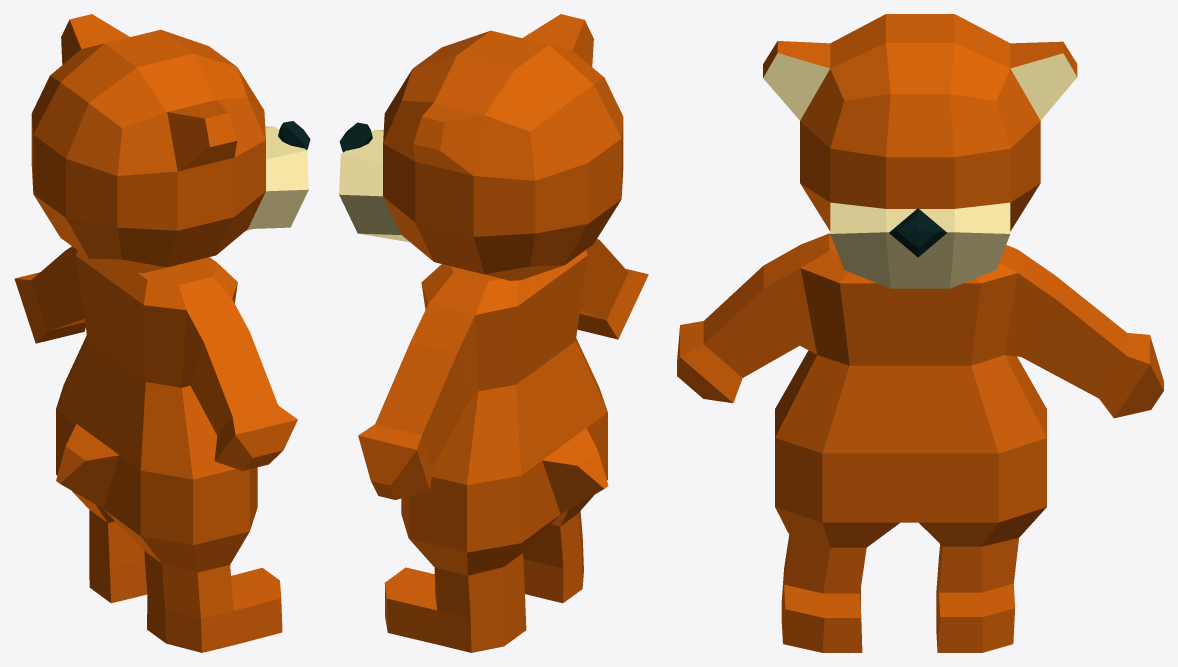
File: teddybear-orange.fbx
3 renders of one model, left to right at view 1: azimuth 30°, elevation 25°; view 2: azimuth 150°, elevation 25°; view 3: azimuth 270°, elevation 25°, orthographic. The views are drawn at different scales.
Parts seen in each view (by area): view 1: teddy.003; view 2: teddy.003; view 3: teddy.003.
Part boxes in pixels (<box>): teddy.003: <box>14,14,310,652</box>; teddy.003: <box>339,14,648,652</box>; teddy.003: <box>677,14,1163,652</box>.
Bounding box in the file's own units: 166 × 342 × 259.
